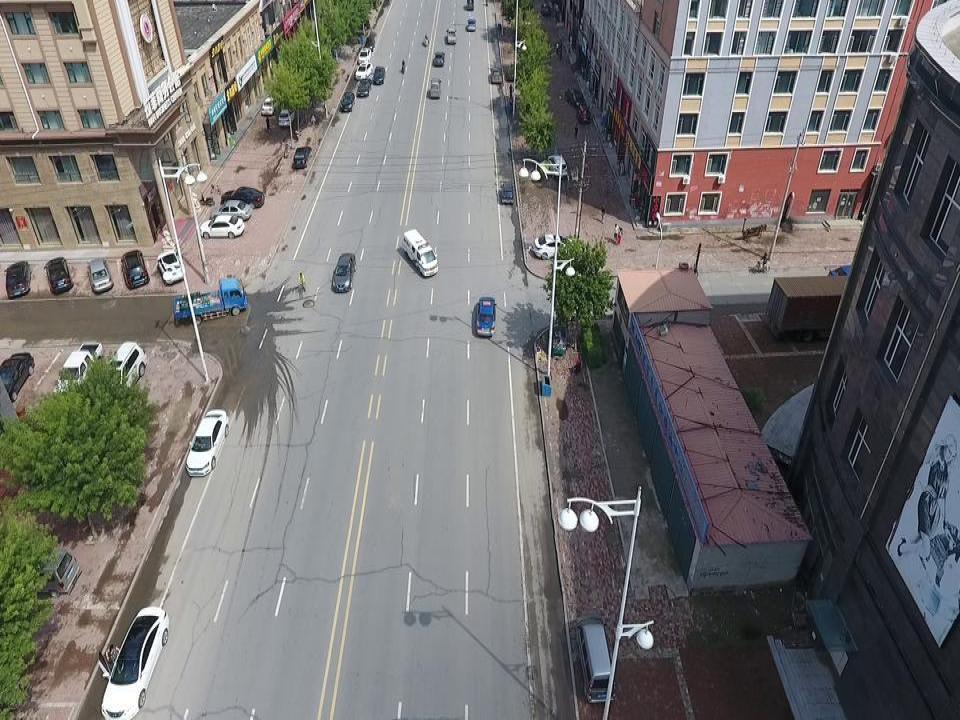car: (97, 606, 170, 720), (55, 336, 102, 408), (183, 408, 231, 477), (104, 340, 149, 412), (0, 347, 42, 400), (533, 229, 582, 263), (197, 213, 246, 240), (120, 248, 150, 292), (43, 253, 73, 295), (85, 256, 115, 297), (329, 251, 356, 292), (471, 296, 498, 337), (4, 259, 33, 297), (155, 251, 185, 285), (209, 201, 253, 223), (222, 188, 265, 208), (290, 144, 314, 169), (549, 152, 568, 180), (498, 180, 515, 207), (278, 105, 296, 128), (355, 61, 375, 80), (337, 92, 355, 113), (261, 93, 277, 115), (563, 89, 586, 104), (355, 78, 372, 98), (576, 103, 592, 124), (371, 65, 386, 84), (431, 51, 446, 69), (357, 46, 373, 62), (488, 67, 502, 84), (465, 16, 477, 33)
truck: (167, 278, 250, 326), (445, 26, 457, 43)
van: (2, 539, 82, 597), (569, 613, 619, 703), (398, 226, 440, 278), (427, 76, 443, 97)
